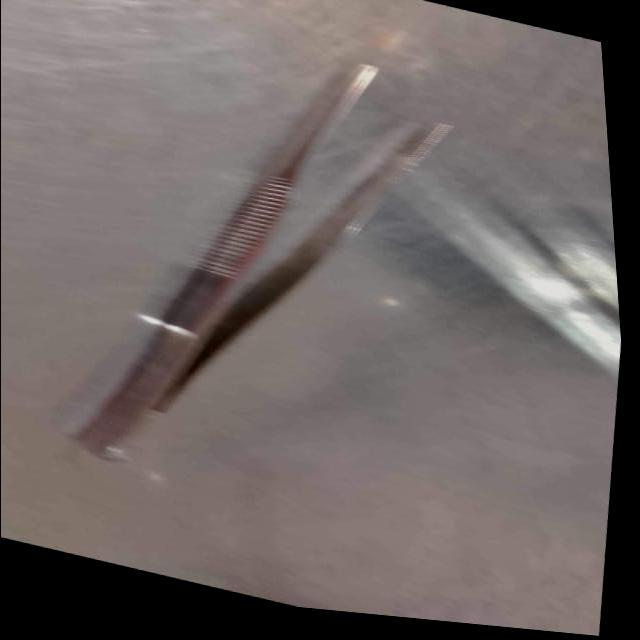Pathological: (2, 3, 621, 637)
Sharps: (66, 63, 383, 464), (149, 119, 454, 416)
